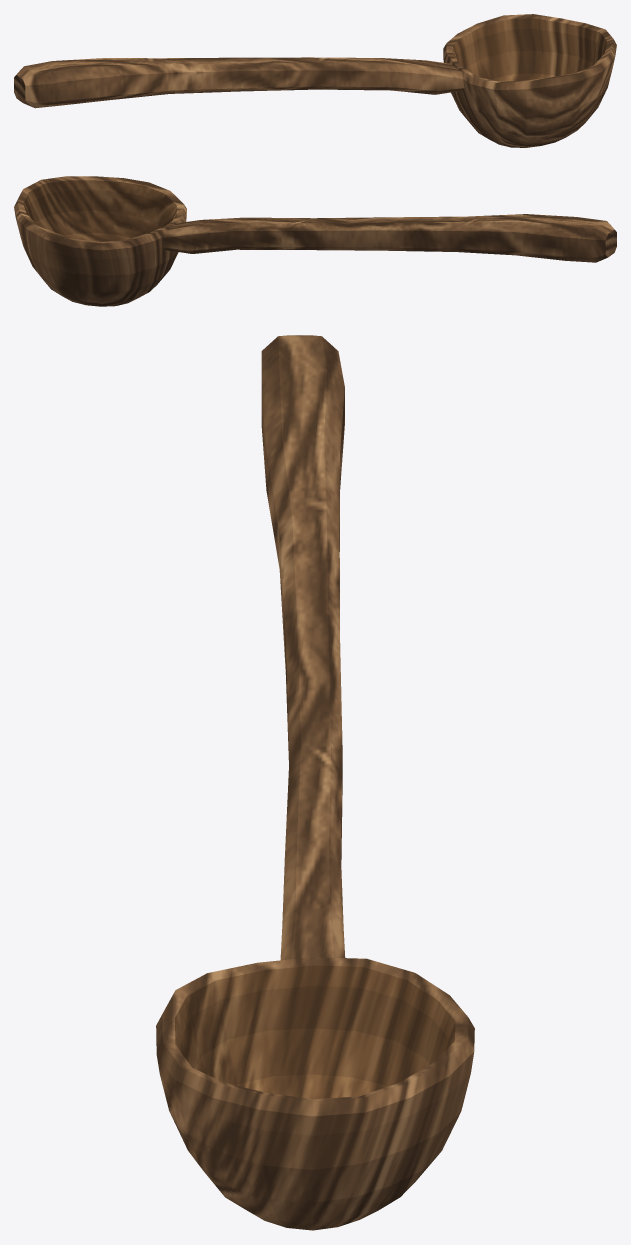
File: Concha-de-Madeira.glb
3 views of the same model, one above another, from view 1: azimuth 30°, elevation 25°; view 2: azimuth 150°, elevation 25°; view 3: azimuth 270°, elevation 25° (orthographic). The views are drawn at different scales.
Parts seen in each view (by area): view 1: Cabo longo, Bojo, Interior da concha; view 2: Cabo longo, Bojo, Interior da concha; view 3: Cabo longo, Bojo, Interior da concha.
Boxes of the visible parts, x1,y1,x2,y2 form: Cabo longo: [14, 57, 464, 108]; Bojo: [443, 14, 616, 147]; Interior da concha: [453, 18, 607, 81]; Cabo longo: [163, 214, 616, 262]; Bojo: [14, 176, 186, 306]; Interior da concha: [23, 180, 176, 241]; Cabo longo: [261, 335, 345, 960]; Bojo: [156, 957, 474, 1230]; Interior da concha: [175, 965, 455, 1099].
Bounding box in the file's own units: 0.4201 × 0.128 × 0.0987.
Materials: 2 (2 with a texture image).
